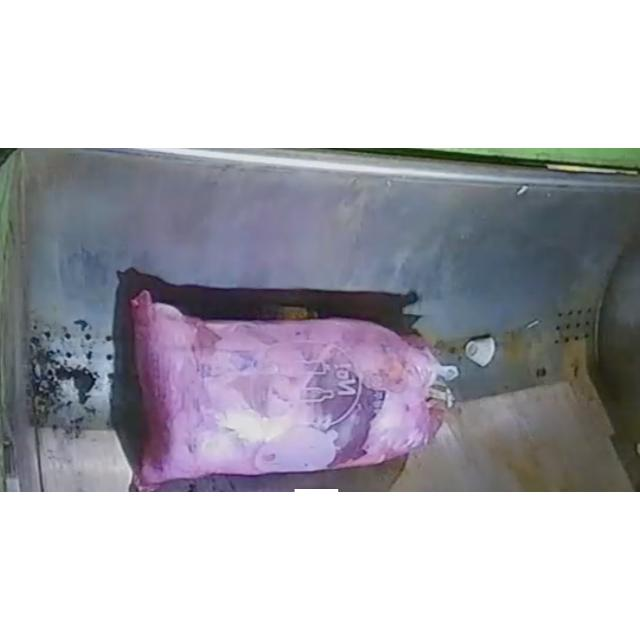other_trashbag: (131, 290, 441, 488)
